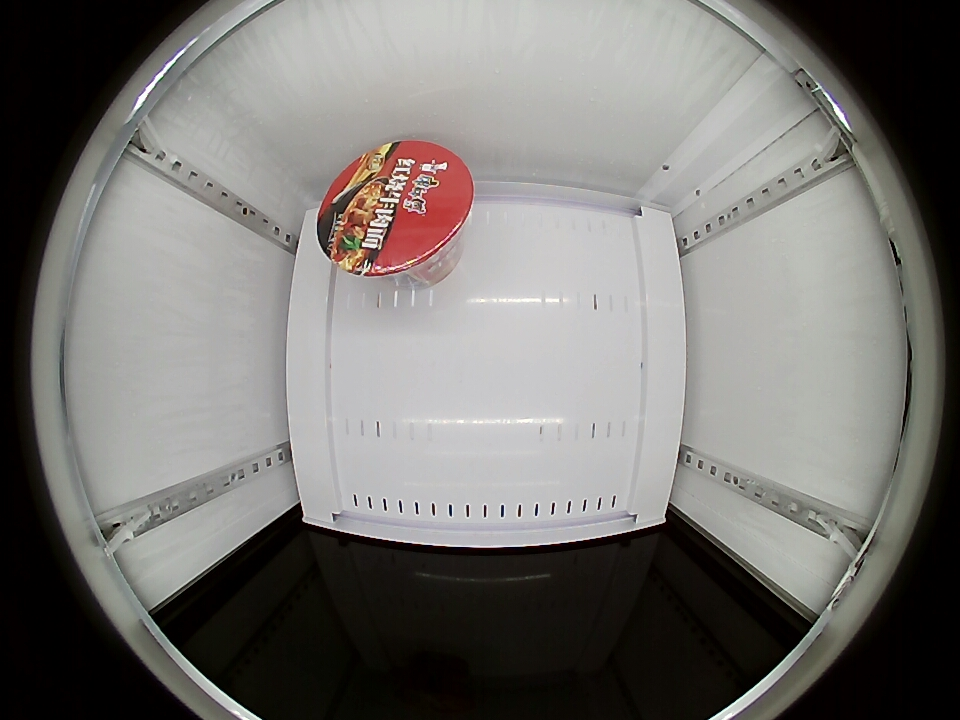hongshaoniurou: (317, 141, 475, 278)
